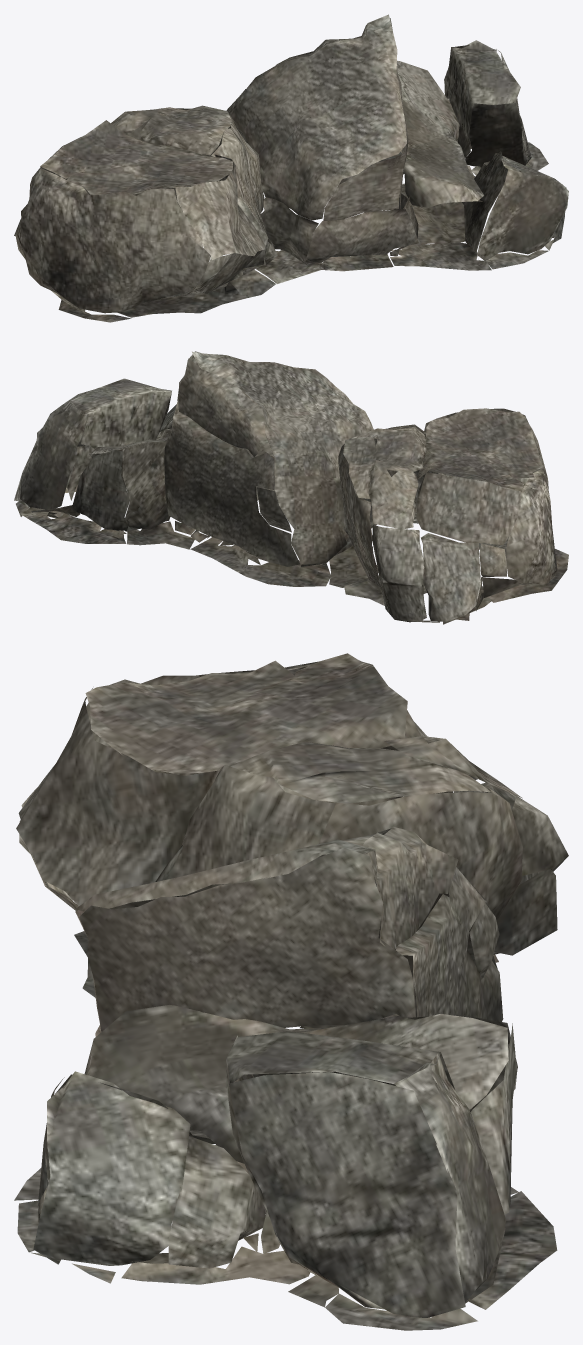
File: rock_b.glb
The picture shows the model from 3 angles, top to bottom: view 1: azimuth 30°, elevation 25°; view 2: azimuth 150°, elevation 25°; view 3: azimuth 270°, elevation 25°; orthographic projection. The views are drawn at different scales.
Visible parts, largest first — view 1: boulder_02; view 2: boulder_02; view 3: boulder_02.
Part boxes in pixels (x1,y1,x2,y2): boulder_02: (14,14,568,322); boulder_02: (14,351,568,624); boulder_02: (14,653,568,1330).
Size of the model in its own units: 1 by 0.3516 by 0.4938.
Materials: 1 (1 with a texture image).
